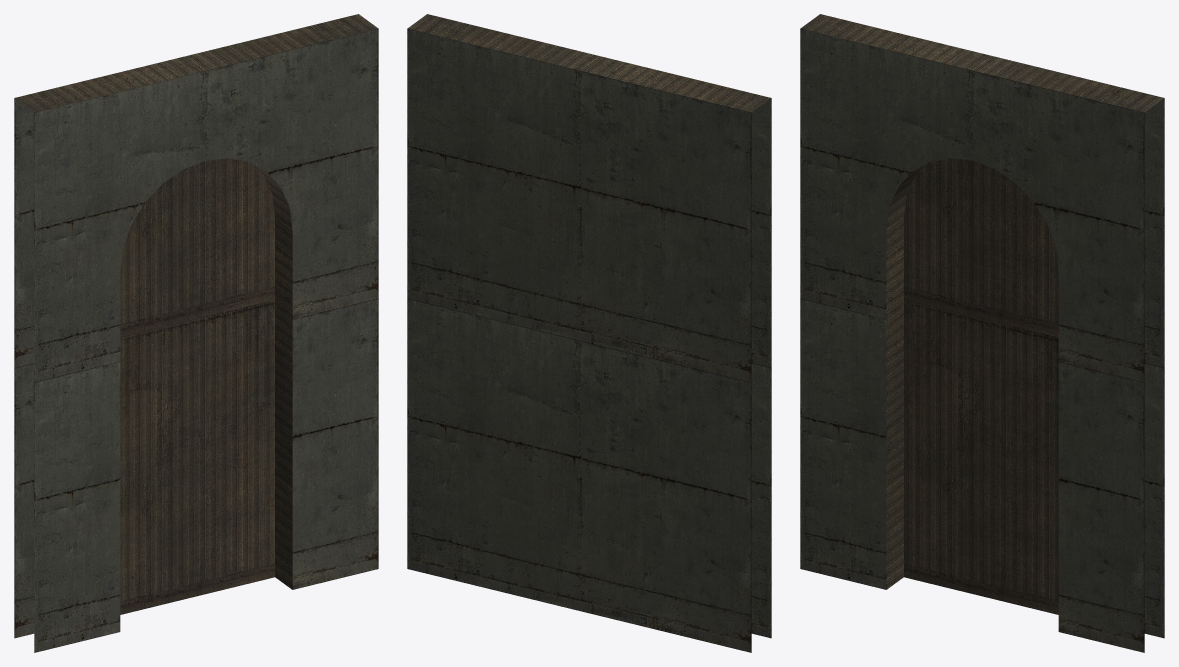
The model's file is wall_rg_15_double.dae.
3 views of the same model, side by side, from view 1: azimuth 30°, elevation 25°; view 2: azimuth 150°, elevation 25°; view 3: azimuth 330°, elevation 25° (orthographic).
Parts seen in each view (by area): view 1: wall_rg_15_double; view 2: wall_rg_15_double; view 3: wall_rg_15_double.
Part boxes in pixels (left/top/right/bottom): wall_rg_15_double: left=14, top=14, right=378, bottom=652; wall_rg_15_double: left=407, top=14, right=771, bottom=652; wall_rg_15_double: left=800, top=14, right=1164, bottom=652.
Size of the model in its own units: 4 by 0.4 by 6.
Materials: 2 (2 with a texture image).
